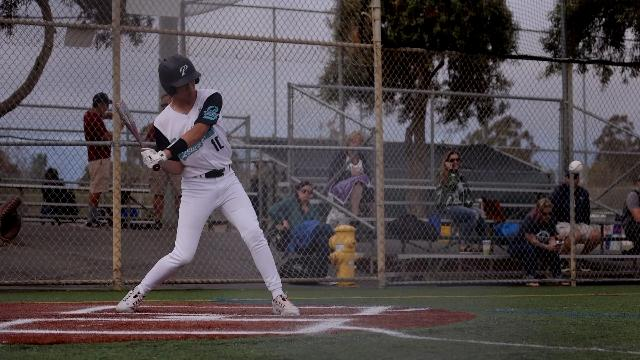baseball bat: (114, 100, 146, 150)
sports ball: (569, 160, 585, 176)
